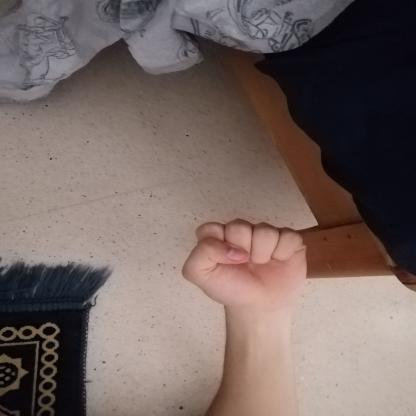SAD: (172, 210, 326, 320)
